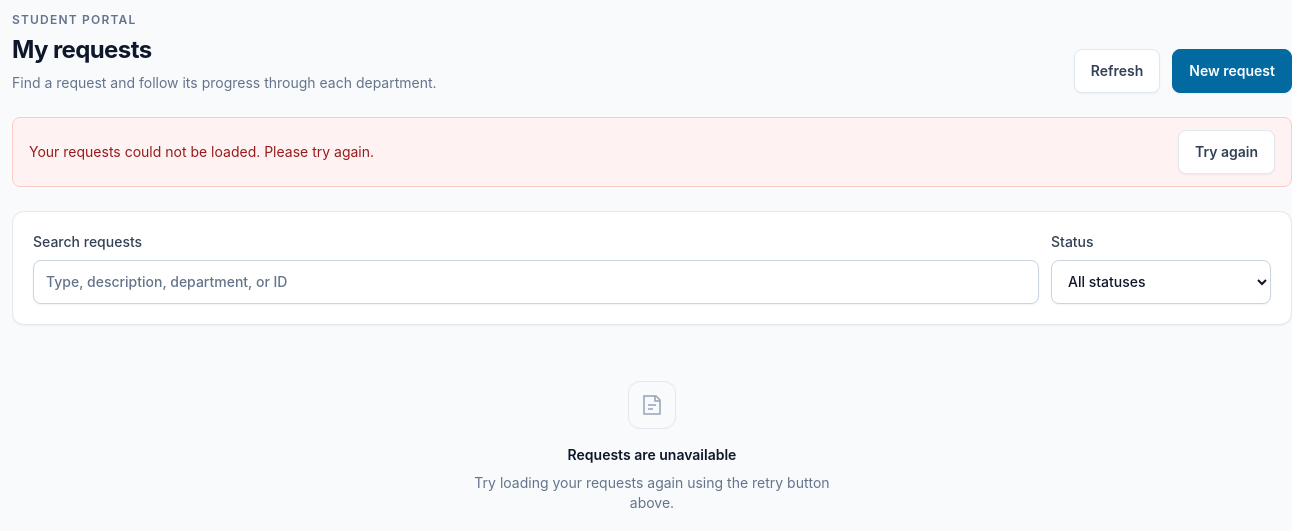
Test: Student pages and navigation › retries failed list loading without treating it as an empty list
Expected: the message "Your requests could not be loaded. Please try again. Try again" is shown, [12, 117, 1291, 187]
Click the button "Try again" at {"x": 1226, "y": 152}, box [1178, 130, 1275, 174]
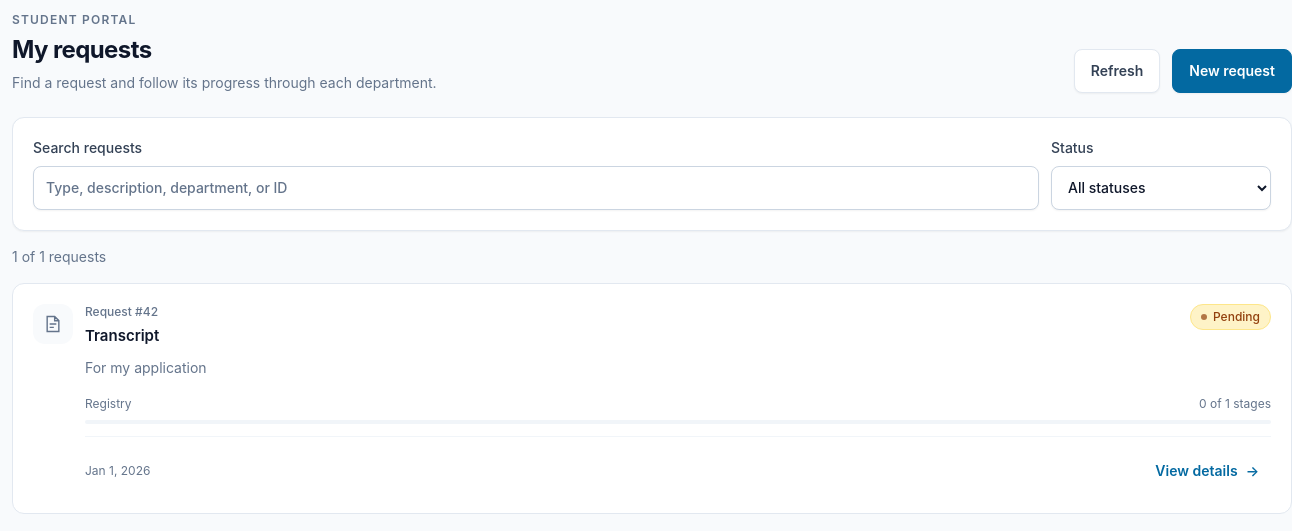
Now the element that starts with "Request #42" shows "Transcript", box [85, 326, 159, 345]
